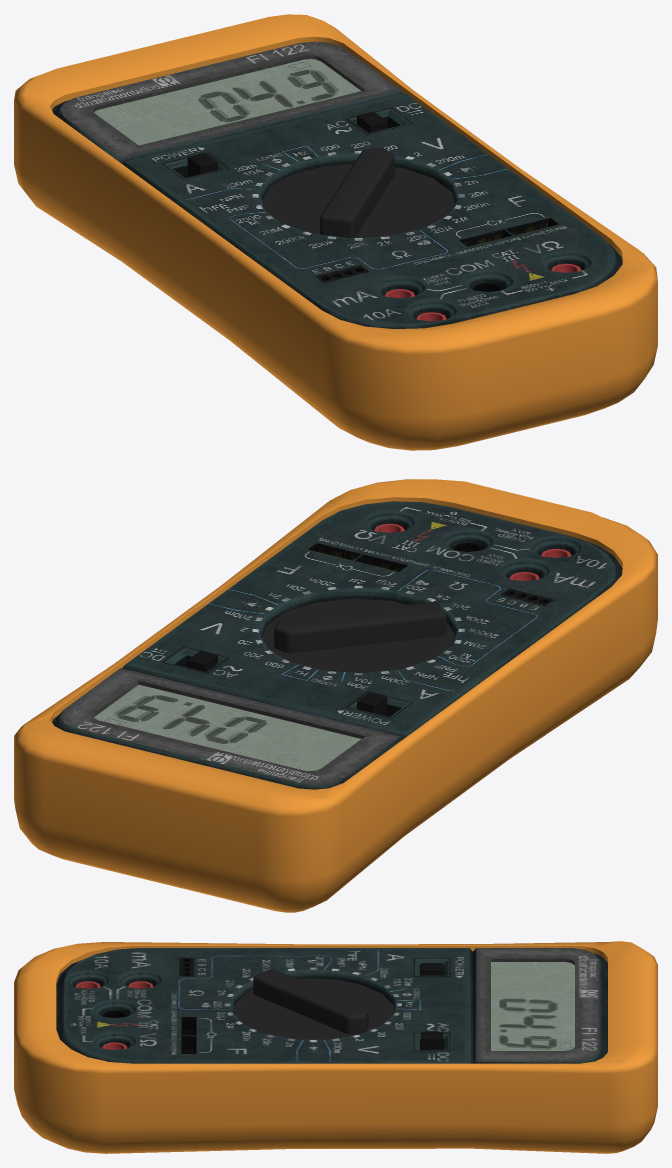
Rendered from multimetro.glb.
3 views of the same model, one above another, from view 1: azimuth 30°, elevation 25°; view 2: azimuth 150°, elevation 25°; view 3: azimuth 270°, elevation 25° (orthographic). The views are drawn at different scales.
Visible parts, largest first — view 1: MutliMeter; view 2: MutliMeter; view 3: MutliMeter.
Part boxes in pixels (box(x1,y1,x2,y2)): MutliMeter: box(14, 14, 657, 450); MutliMeter: box(14, 479, 657, 912); MutliMeter: box(14, 941, 657, 1153).
Bounding box in the file's own units: 7.86 × 3.15 × 16.49.
1 material, 1 textured.
